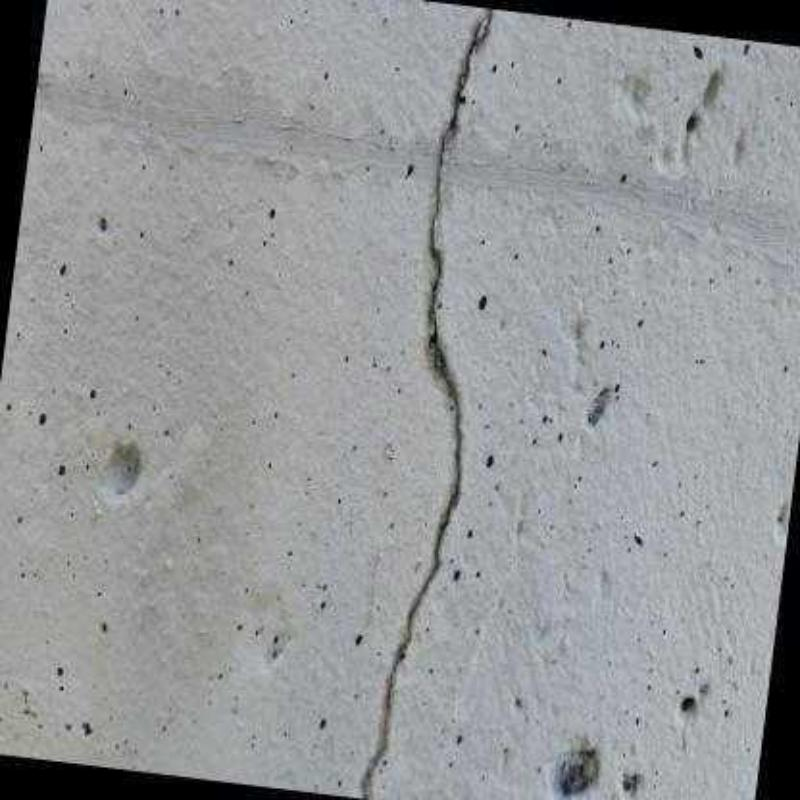pothole: (362, 8, 491, 799)
